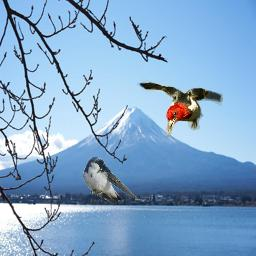Swallow: (82, 156, 141, 205)
Woodpecker: (134, 77, 223, 138)
